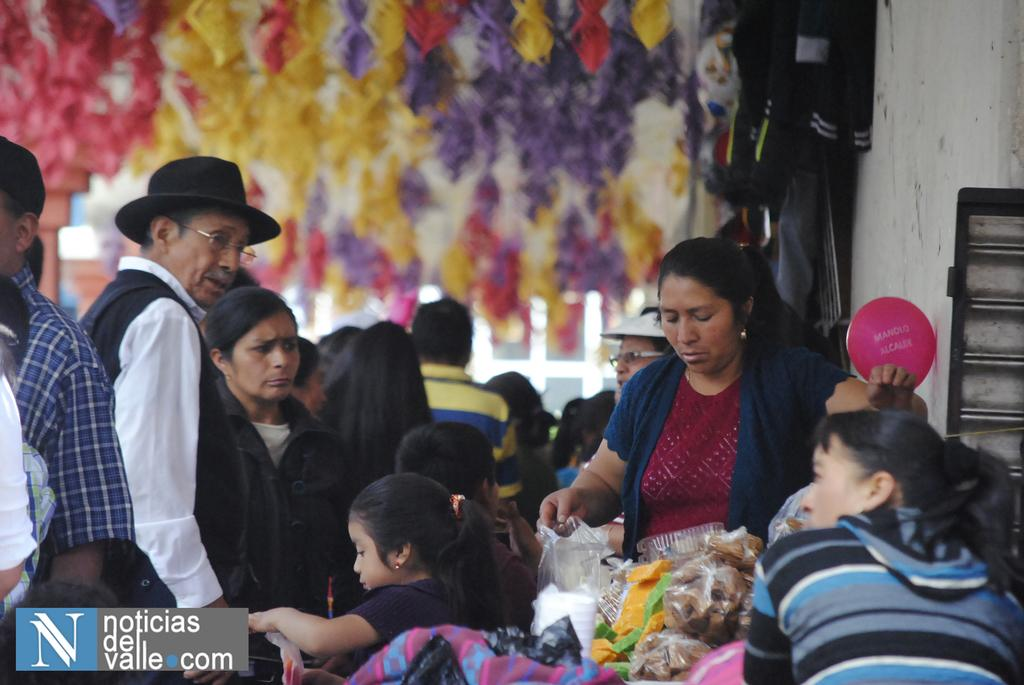Hat: (110, 160, 282, 244)
